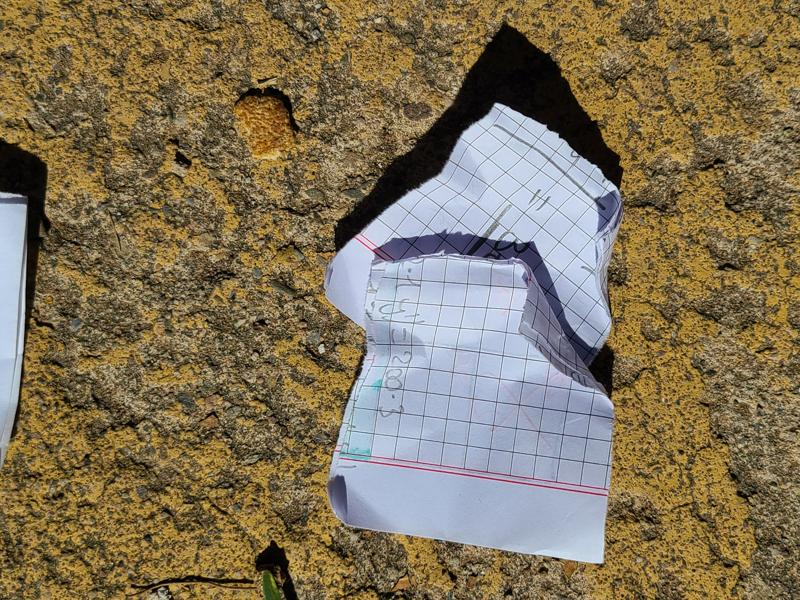papel: (324, 98, 620, 566)
